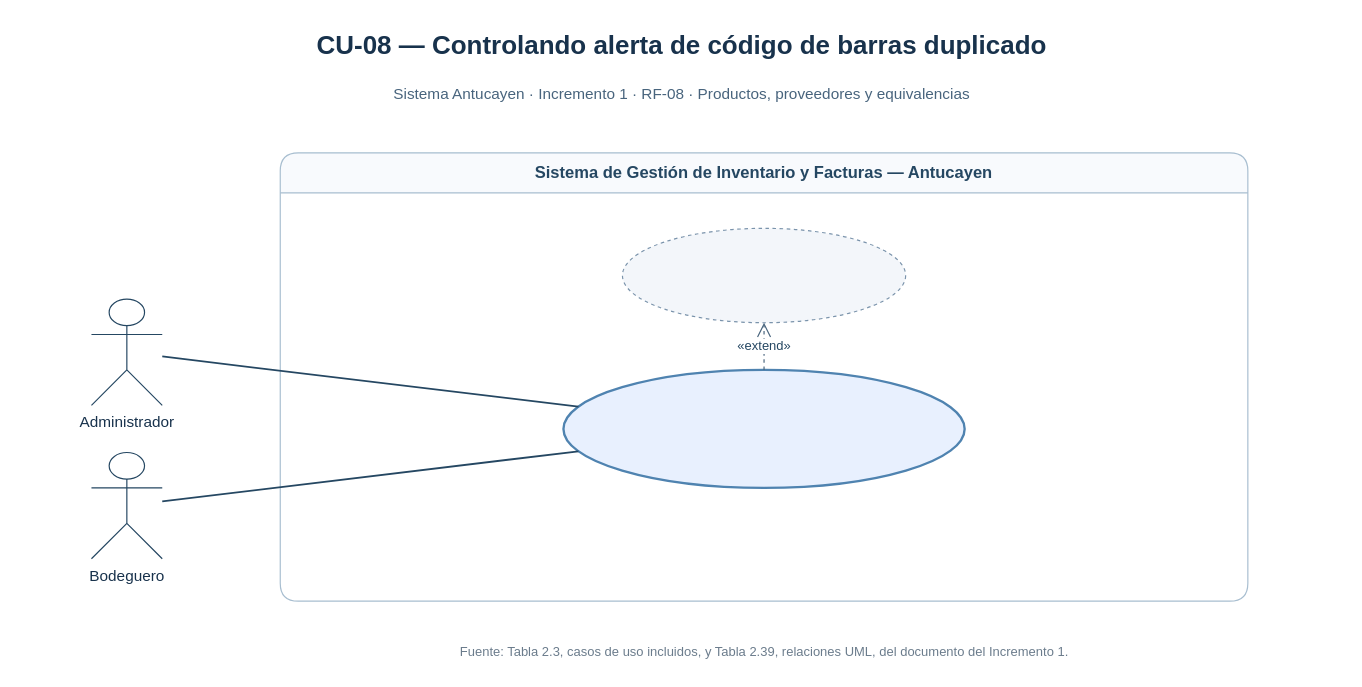
Some shapes in this 1362 by 687 pixel diagram are drawn without their labels. Here are the shapes that lost their labels. From the top down, the centre of each, then its label:
At (x=763, y=275): "CU-07 Validando código de barras único".
At (x=763, y=428): "CU-08 Controlando alerta de código de barras duplicado".
